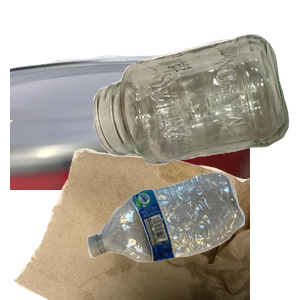glass: (91, 32, 300, 189)
metal: (10, 52, 250, 232)
plastic: (85, 170, 300, 300)
trash: (10, 120, 250, 300)
